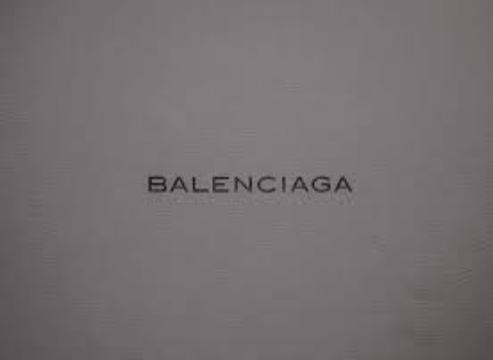BALENCIAGA: (144, 171, 355, 196)
